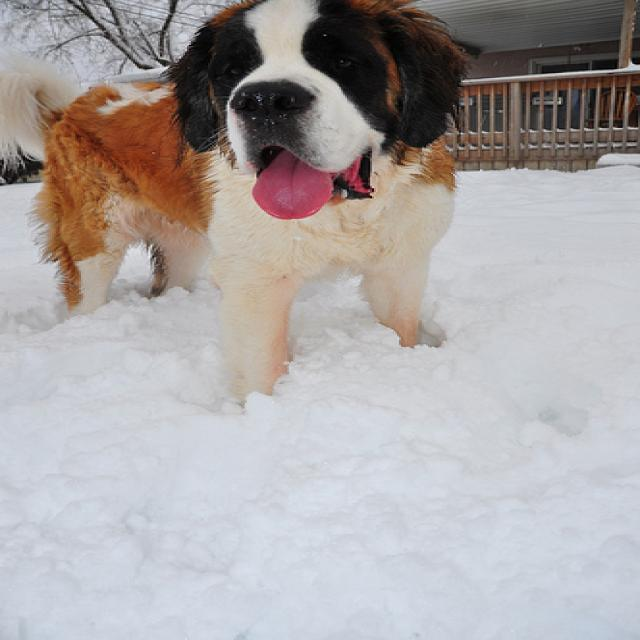dog-saint_bernard: (2, 1, 478, 412)
